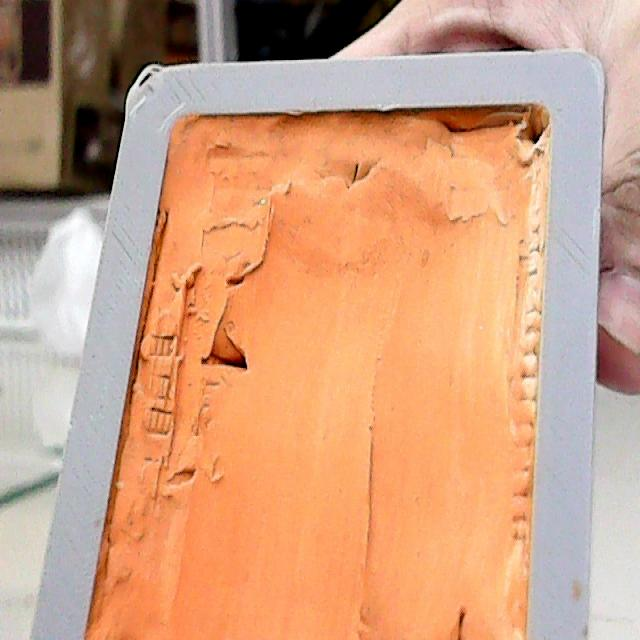block: (22, 48, 605, 640)
